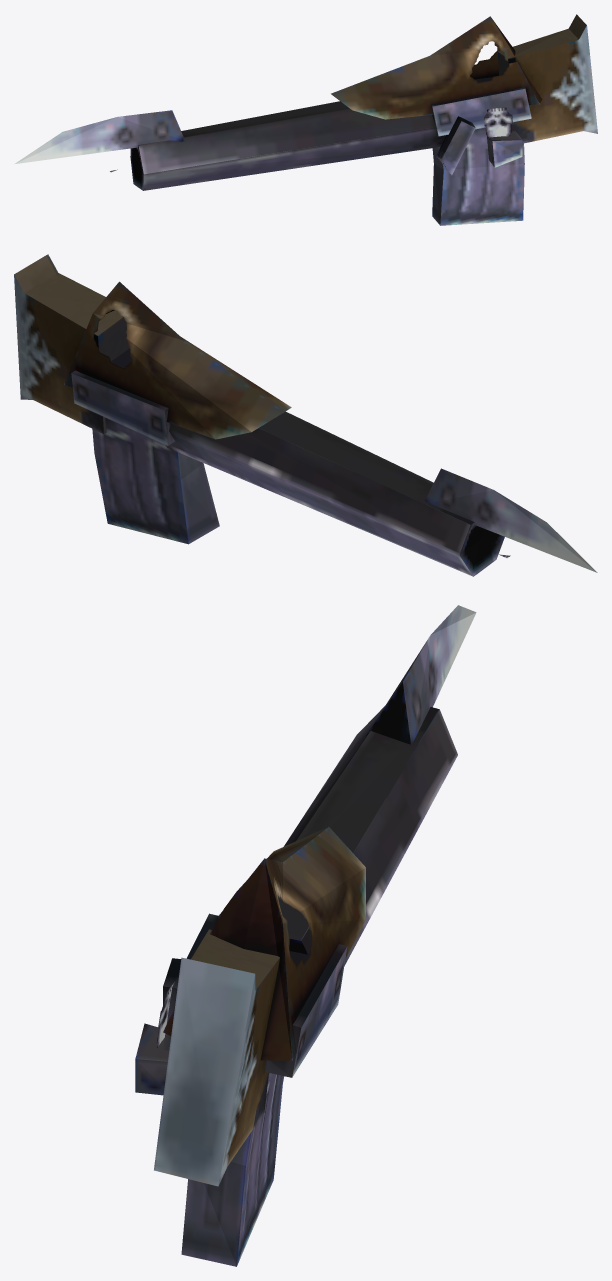
Rendered from URIFLE.obj.
3 renders of one model, top to bottom at view 1: azimuth 30°, elevation 25°; view 2: azimuth 150°, elevation 25°; view 3: azimuth 270°, elevation 25°, orthographic. The views are drawn at different scales.
Visible parts, largest first — view 1: Node 0; view 2: Node 0; view 3: Node 0.
Boxes of the visible parts, left/top/right/bottom form: Node 0: left=14, top=14, right=597, bottom=225; Node 0: left=14, top=254, right=597, bottom=576; Node 0: left=135, top=605, right=476, bottom=1266.
Bounding box in the file's own units: 1.28 × 0.47 × 0.37.
Materials: 2 (2 with a texture image).
